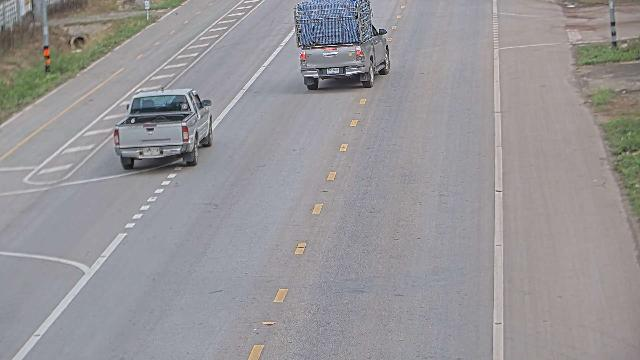pickup-truck: (292, 0, 390, 90), (113, 85, 213, 170)
